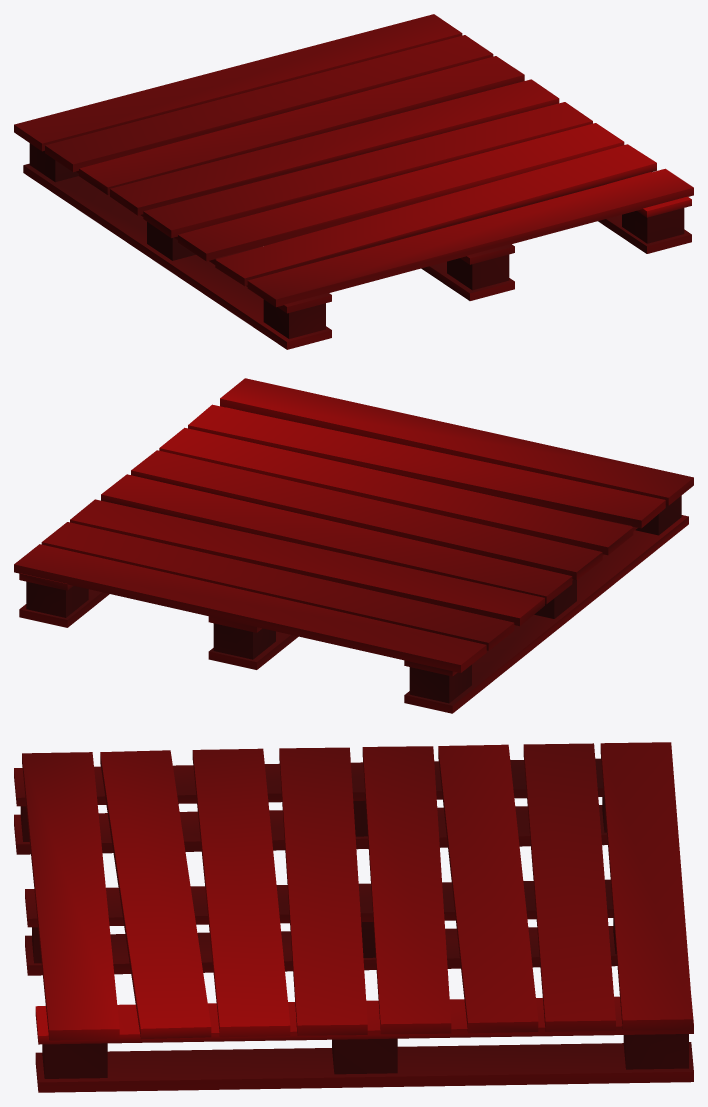
File: ShippingPallet.glb
The picture shows the model from 3 angles, top to bottom: view 1: azimuth 30°, elevation 25°; view 2: azimuth 150°, elevation 25°; view 3: azimuth 270°, elevation 25°; orthographic projection. The views are drawn at different scales.
Visible parts, largest first — view 1: ShippingPallet; view 2: ShippingPallet; view 3: ShippingPallet.
Boxes of the visible parts, x1,y1,x2,y2 form: ShippingPallet: [14, 14, 693, 349]; ShippingPallet: [14, 378, 693, 713]; ShippingPallet: [14, 742, 693, 1092].
Size of the model in its own units: 6.47 by 0.6954 by 6.46.
